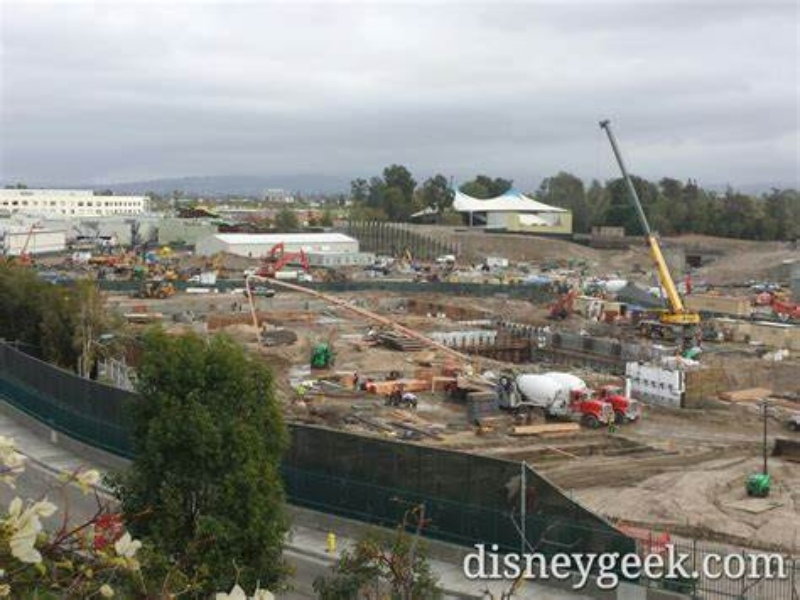crane: (598, 116, 706, 346)
pump truck: (244, 271, 514, 410)
vehicle: (514, 372, 616, 432), (542, 371, 640, 425)
